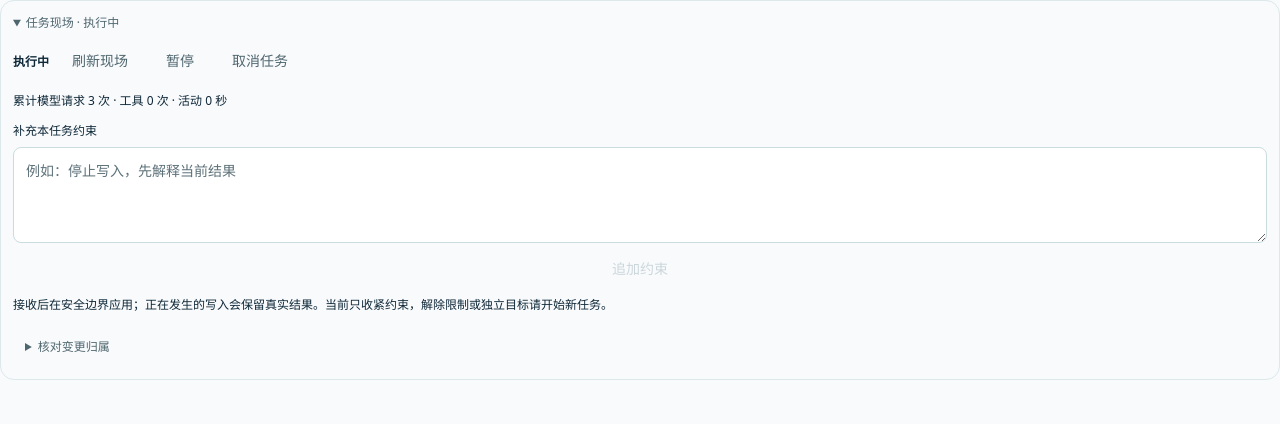
it: 追加约束显示等待应用，同一网络失败重试保留请求标识
Type "只解释" into the text box labelled "补充本任务约束". click: (640, 195)
box: [13,147,1267,243]
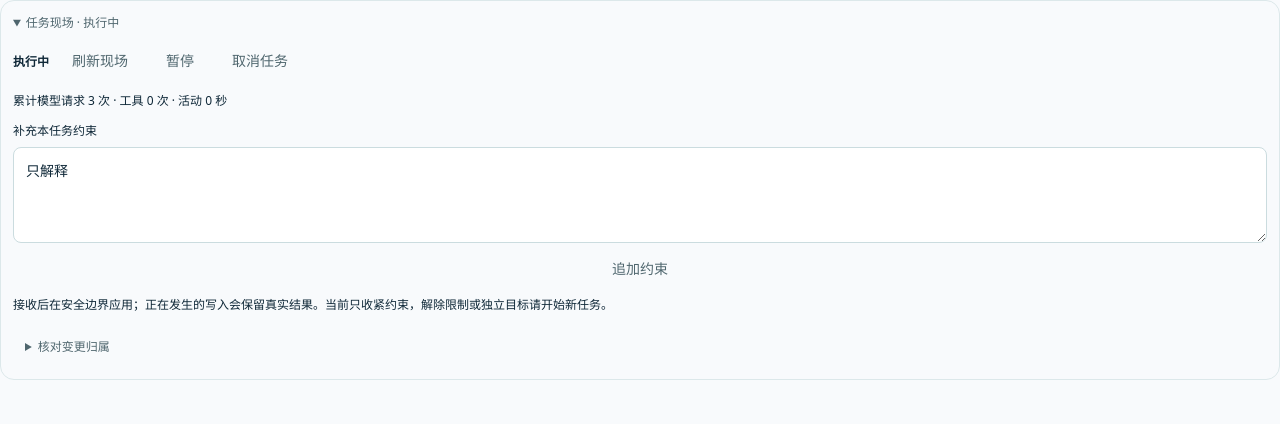
Submit the form, box [13,121,1267,313]
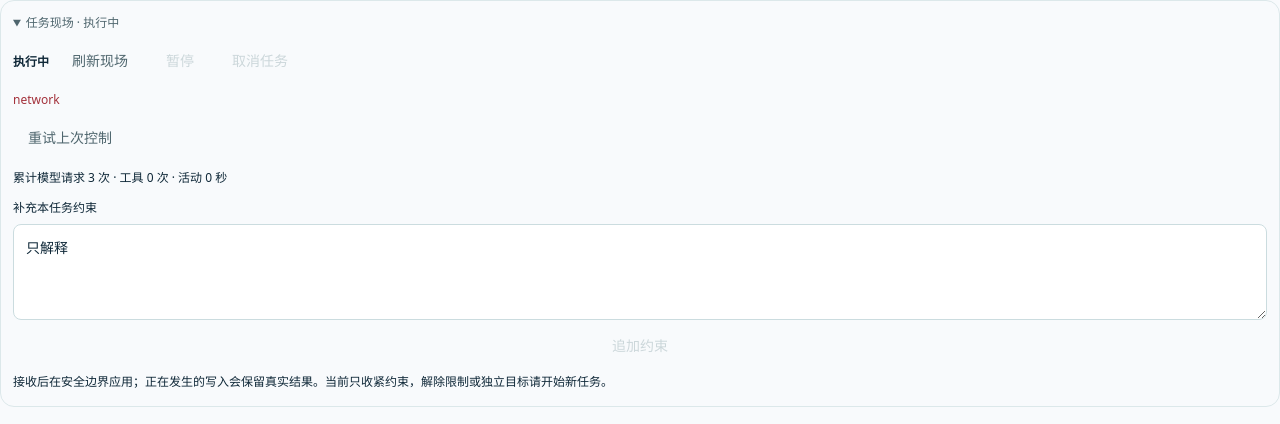
Click the button "重试上次控制". click: (70, 138)
box: [13,120,127,156]
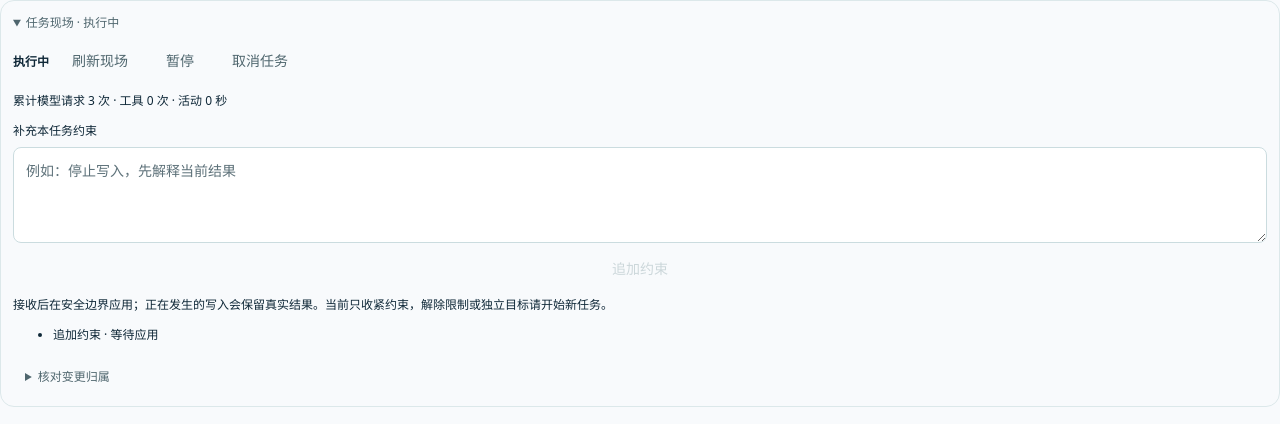
Check: the text "等待应用" is shown, box [53,326,158,343]
